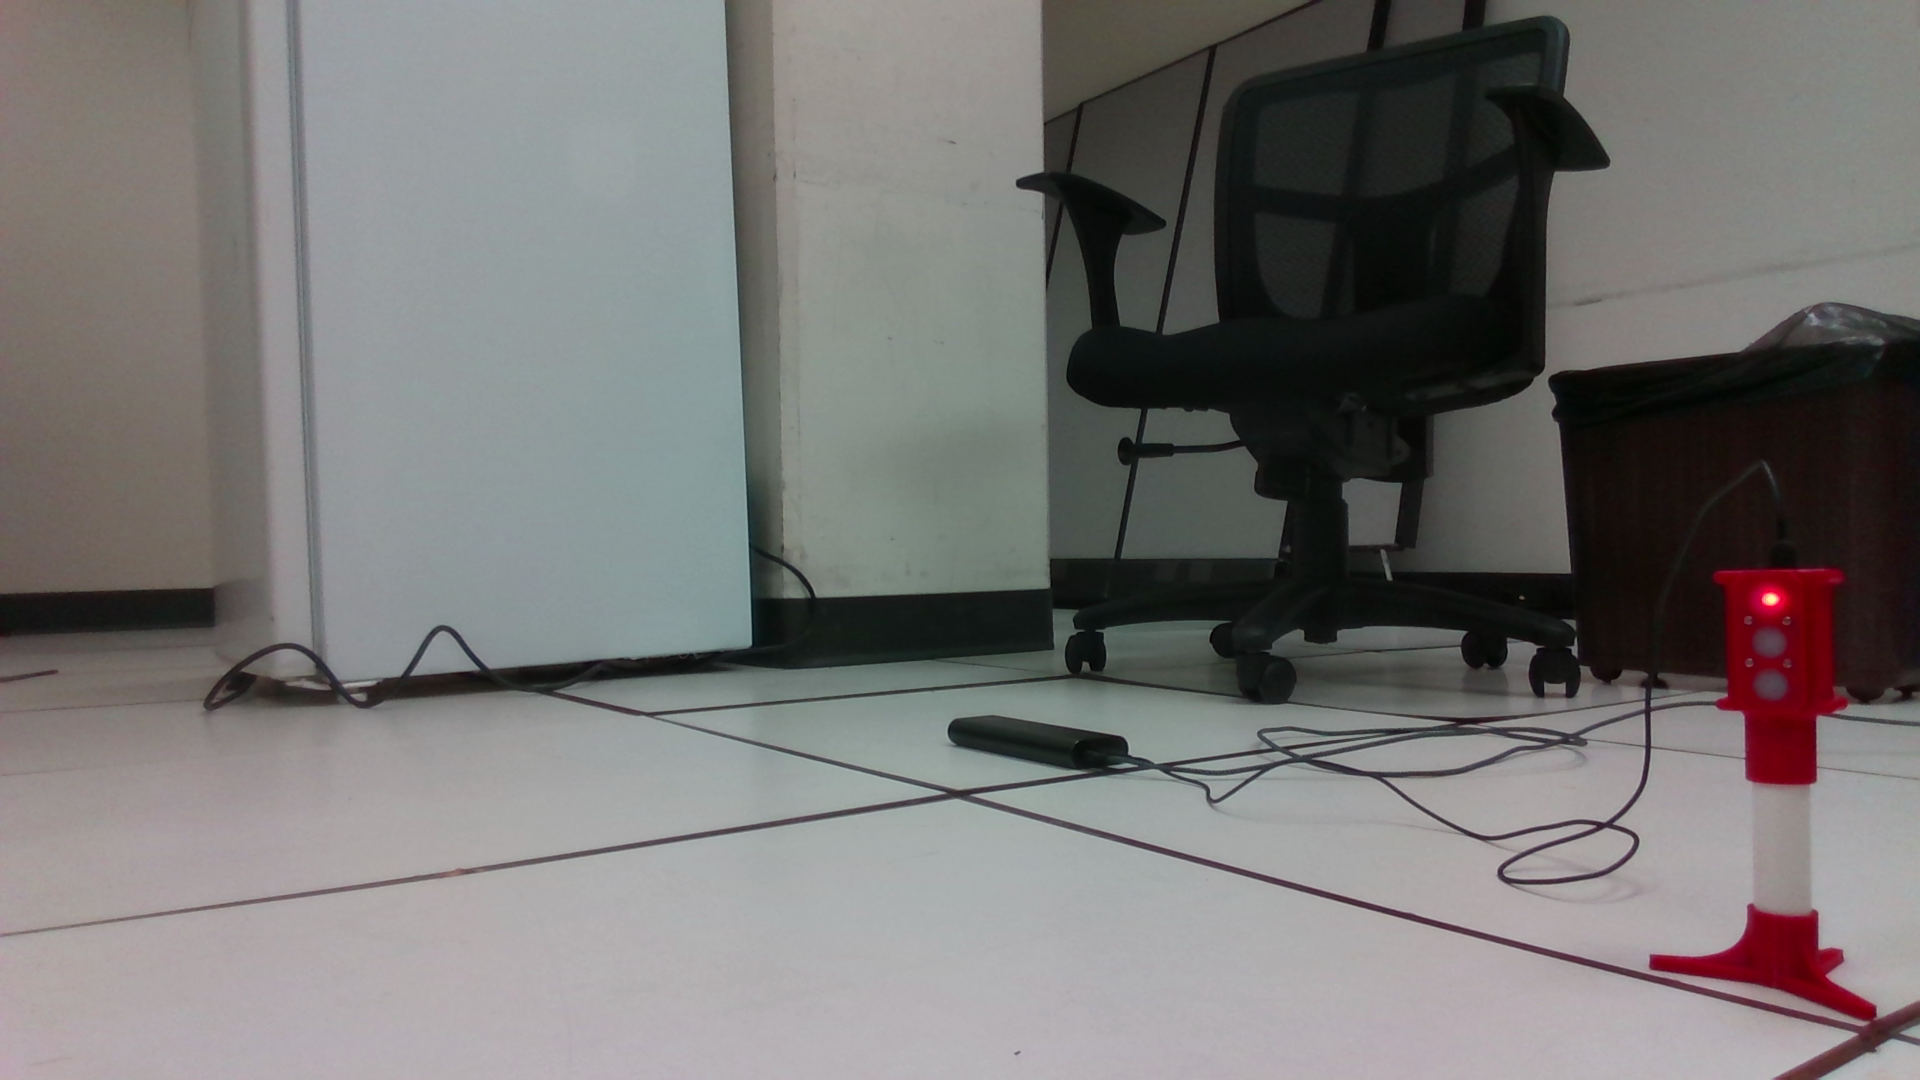stoplight: (1708, 562, 1845, 787)
